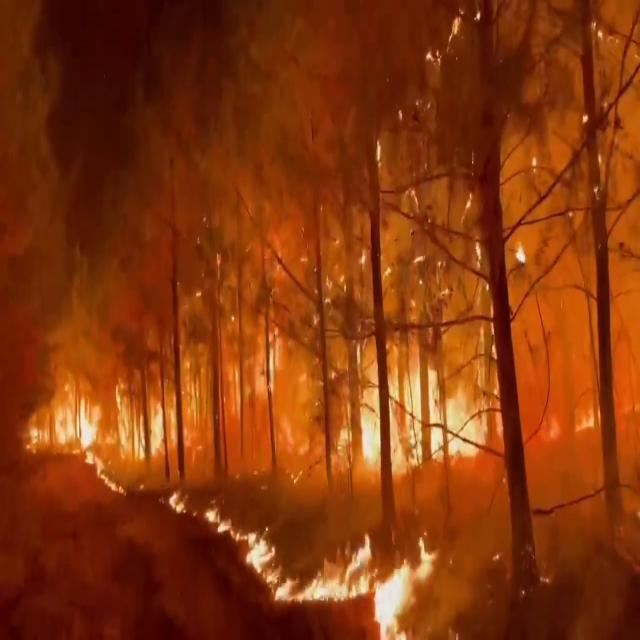Fire: (268, 530, 440, 636), (351, 356, 492, 466), (198, 481, 270, 583), (26, 380, 104, 470), (112, 385, 174, 467)
Smoke: (0, 14, 348, 377), (355, 9, 640, 364)
